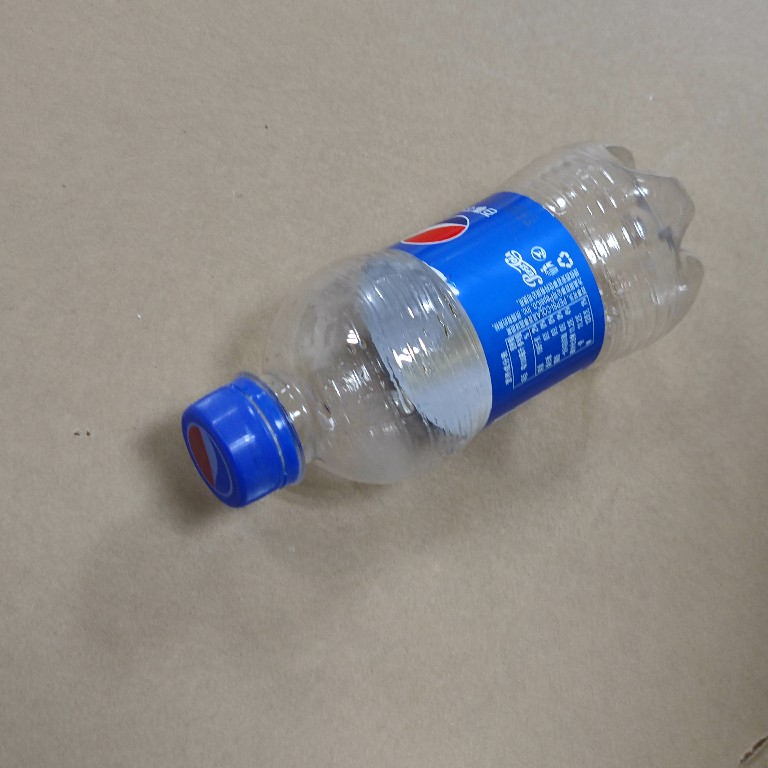bottle: (180, 137, 711, 513)
